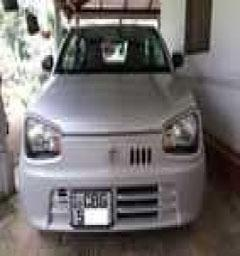car: (8, 18, 211, 240)
